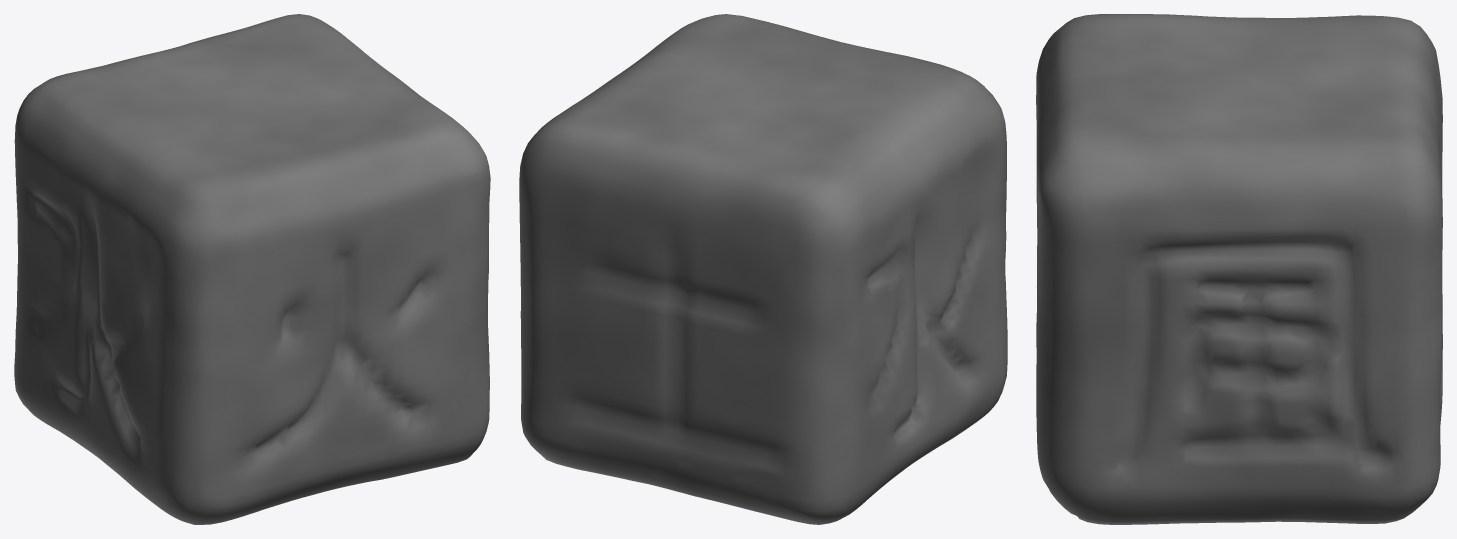
File: Pillar_Block.fbx
3 renders of one model, left to right at view 1: azimuth 30°, elevation 25°; view 2: azimuth 150°, elevation 25°; view 3: azimuth 270°, elevation 25°, orthographic. The views are drawn at different scales.
Visible parts, largest first — view 1: Middle Block.001; view 2: Middle Block.001; view 3: Middle Block.001.
Boxes of the visible parts, box(x1,y1,x2,y2) form: Middle Block.001: box(14, 14, 490, 524); Middle Block.001: box(519, 14, 1007, 524); Middle Block.001: box(1036, 14, 1442, 524).
Size of the model in its own units: 299 by 299 by 298.
